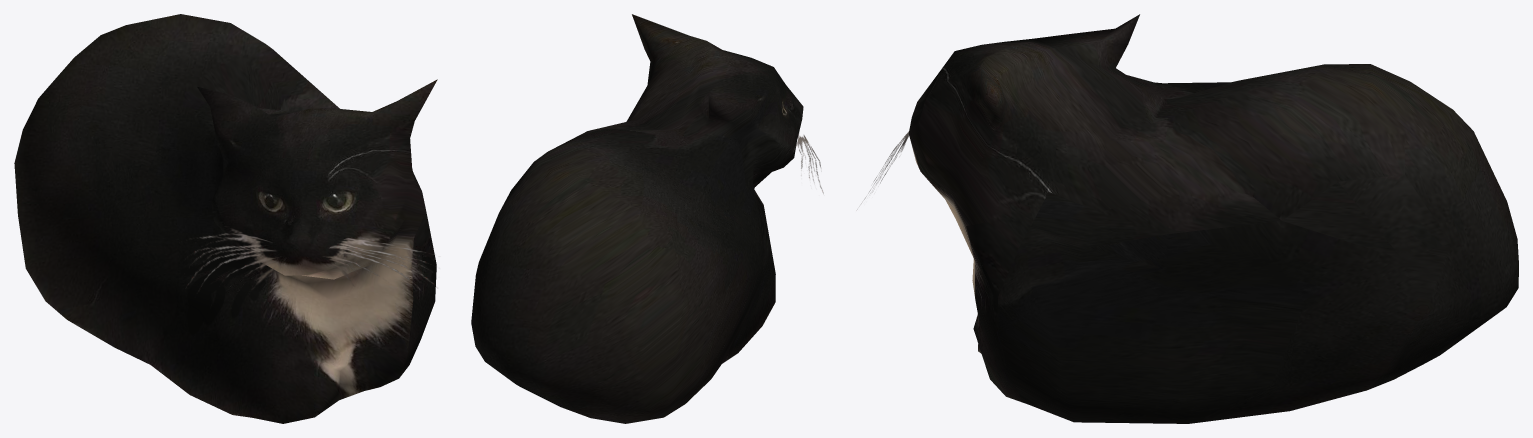
Rendered from cat.glb.
3 renders of one model, left to right at view 1: azimuth 30°, elevation 25°; view 2: azimuth 150°, elevation 25°; view 3: azimuth 270°, elevation 25°, orthographic. The views are drawn at different scales.
Visible parts, largest first — view 1: Maxwell, whiskers; view 2: Maxwell, whiskers; view 3: Maxwell.
Part boxes in pixels (x1,y1,x2,y2): Maxwell: [14, 14, 437, 423]; whiskers: [186, 229, 434, 291]; Maxwell: [471, 14, 803, 423]; whiskers: [796, 132, 823, 193]; Maxwell: [908, 14, 1518, 423].
Size of the model in its own units: 2.06 by 2.45 by 4.23.
Materials: 2 (2 with a texture image).
